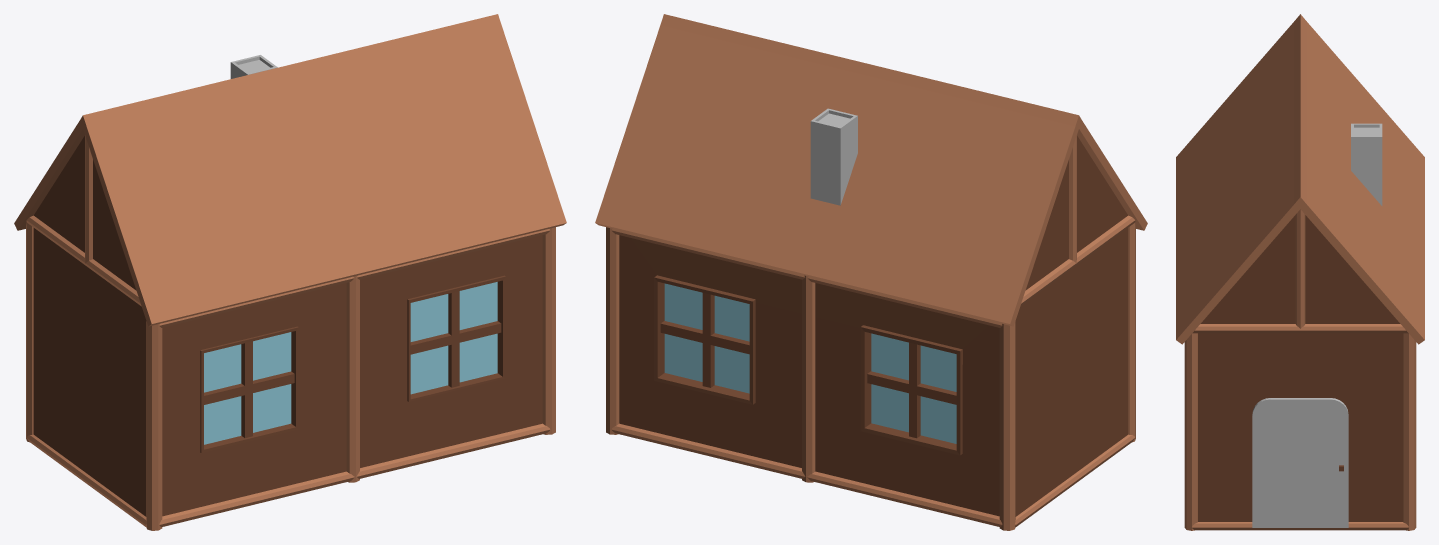
File: wood house.fbx
The picture shows the model from 3 angles, left to right: view 1: azimuth 30°, elevation 25°; view 2: azimuth 150°, elevation 25°; view 3: azimuth 270°, elevation 25°; orthographic projection. The views are drawn at different scales.
Parts seen in each view (by area): view 1: Base, Roof; view 2: Base, Roof; view 3: Base, Roof.
Boxes of the visible parts, x1,y1,x2,y2 form: Base: (26, 55, 555, 530); Roof: (14, 14, 566, 326); Base: (606, 108, 1135, 530); Roof: (595, 14, 1147, 326); Base: (1184, 123, 1416, 530); Roof: (1176, 14, 1424, 344).
Size of the model in its own units: 901 by 772 by 518.
